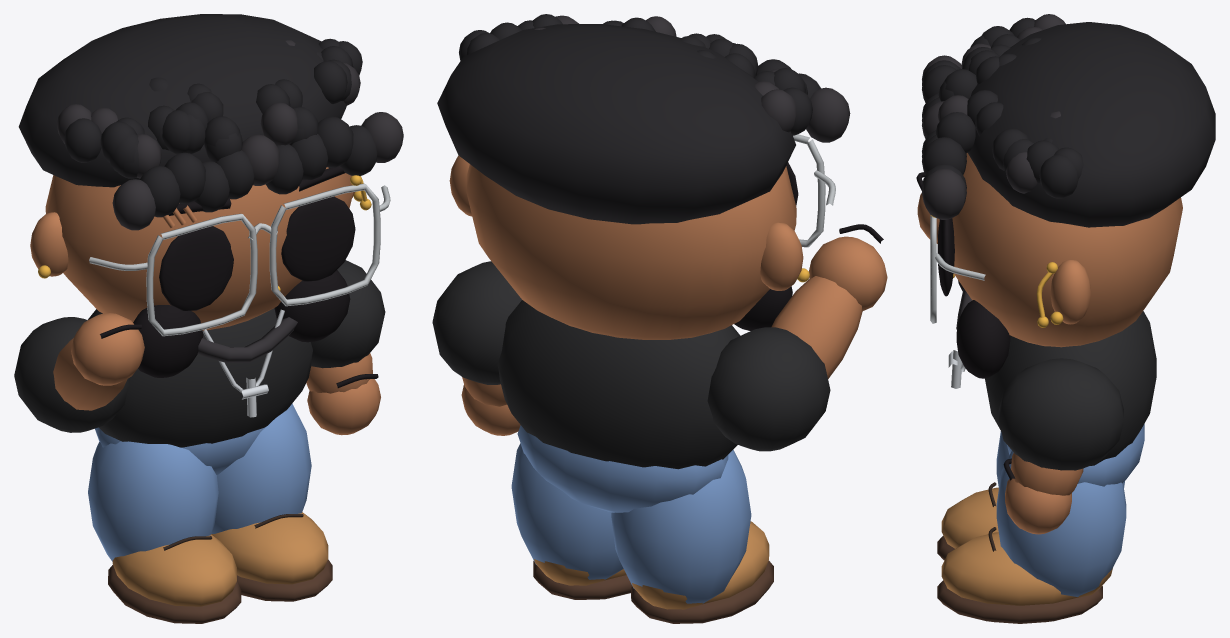
Rendered from Matheus.glb.
3 renders of one model, left to right at view 1: azimuth 30°, elevation 25°; view 2: azimuth 150°, elevation 25°; view 3: azimuth 270°, elevation 25°, orthographic. The views are drawn at different scales.
Parts seen in each view (by area): view 1: Cabelo curto por trás, Rosto inteiro, Corpo / blusa, Perna -1 — peça animável, Manga larga (×2), Perna 1 — peça animável, Mão (×2), Bota -1, Bota 1, Olho -1, Olho 1, Braço (×2) (+33 smaller); view 2: Cabelo curto por trás, Rosto inteiro, Corpo / blusa, Manga larga (×2), Perna -1 — peça animável, Perna 1 — peça animável, Quadril / jeans, Braço (×2), Mão (×2), Sola -1, Orelha -1, Franja cacheada 0 (+9 smaller); view 3: Cabelo curto por trás, Rosto inteiro, Manga larga, Perna 1 — peça animável, Corpo / blusa, Bota 1, Fone 1, Sola 1, Mão (×2), Bota -1, Orelha 1, Franja cacheada 10 (+17 smaller).
Part boxes in pixels (x1,y1,x2,y2): Cabelo curto por trás: (18,14,346,187); Rosto inteiro: (45,167,353,330); Corpo / blusa: (88,308,312,447); Perna -1 — peça animável: (88,441,218,561); Manga larga (×2): (14,260,385,432); Perna 1 — peça animável: (211,403,311,534); Mão (×2): (71,313,380,435); Bota -1: (112,534,236,606); Bota 1: (211,512,328,584); Olho -1: (159,226,233,310); Olho 1: (281,196,355,281); Braço (×2): (53,338,372,410); Cabelo curto por trás: (437,24,795,224); Rosto inteiro: (466,164,796,339); Corpo / blusa: (497,300,740,469); Manga larga (×2): (432,261,830,451); Perna -1 — peça animável: (611,449,751,603); Perna 1 — peça animável: (511,443,623,579); Quadril / jeans: (517,425,728,512); Braço (×2): (462,276,862,406); Mão (×2): (461,236,887,435); Sola -1: (631,560,773,623); Orelha -1: (760,222,803,290); Franja cacheada 0: (806,87,850,142); Cabelo curto por trás: (968,22,1215,227); Rosto inteiro: (952,153,1182,347); Manga larga: (998,358,1123,470); Perna 1 — peça animável: (996,450,1126,596); Corpo / blusa: (985,311,1156,465); Bota 1: (941,532,1078,605); Fone 1: (956,300,1010,378); Sola 1: (937,580,1102,623); Mão (×2): (917,193,1071,534); Bota -1: (941,487,998,548); Orelha 1: (1050,260,1090,324); Franja cacheada 10: (922,168,966,219).
Size of the model in its own units: 1.79 by 2.57 by 1.3.
